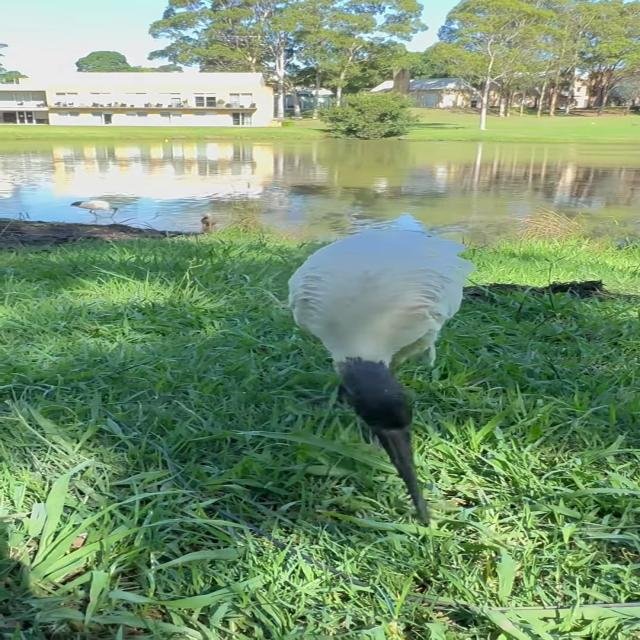Birds-Ibis: (282, 225, 476, 530), (68, 200, 121, 221)
Birds-Other: (198, 209, 224, 228)
